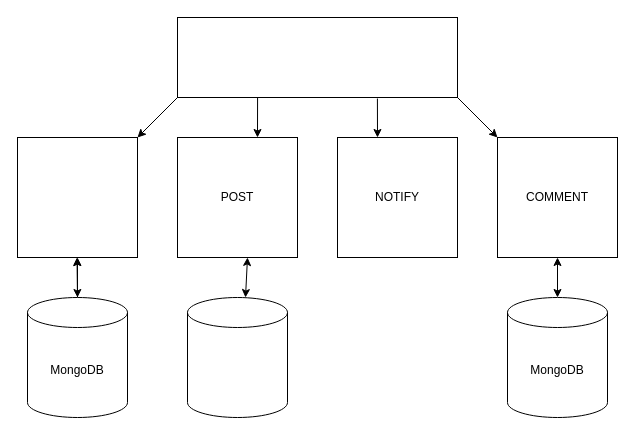
The diagram is 635 pixels wide and 435 high, and some of its shapes have lost their labels. Here are the shapes that lost their labels. From the top down, the box of each, then its label:
(176, 16, 458, 98): BFF
(16, 136, 138, 258): USER
(186, 296, 288, 418): PostgreSQL
